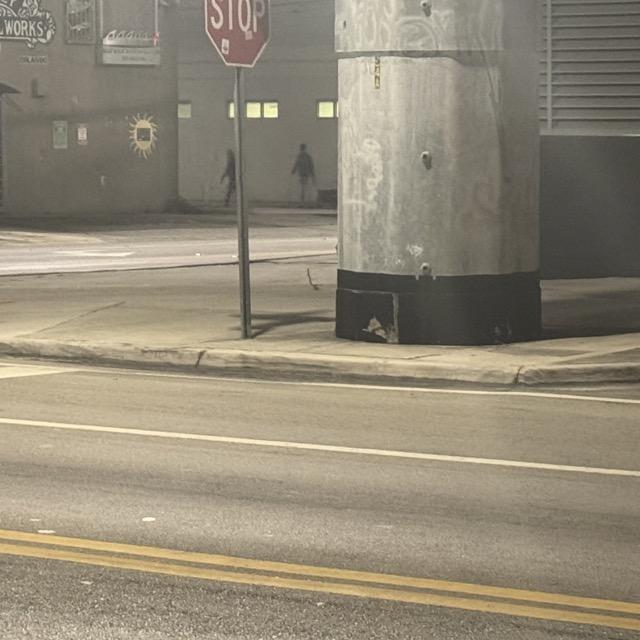curb: (0, 341, 639, 387)
